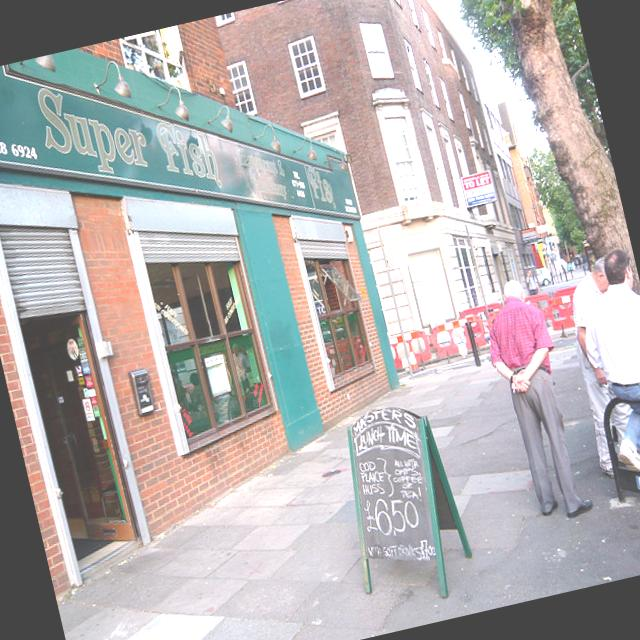Vehicle: (536, 265, 553, 287), (565, 260, 575, 272)
